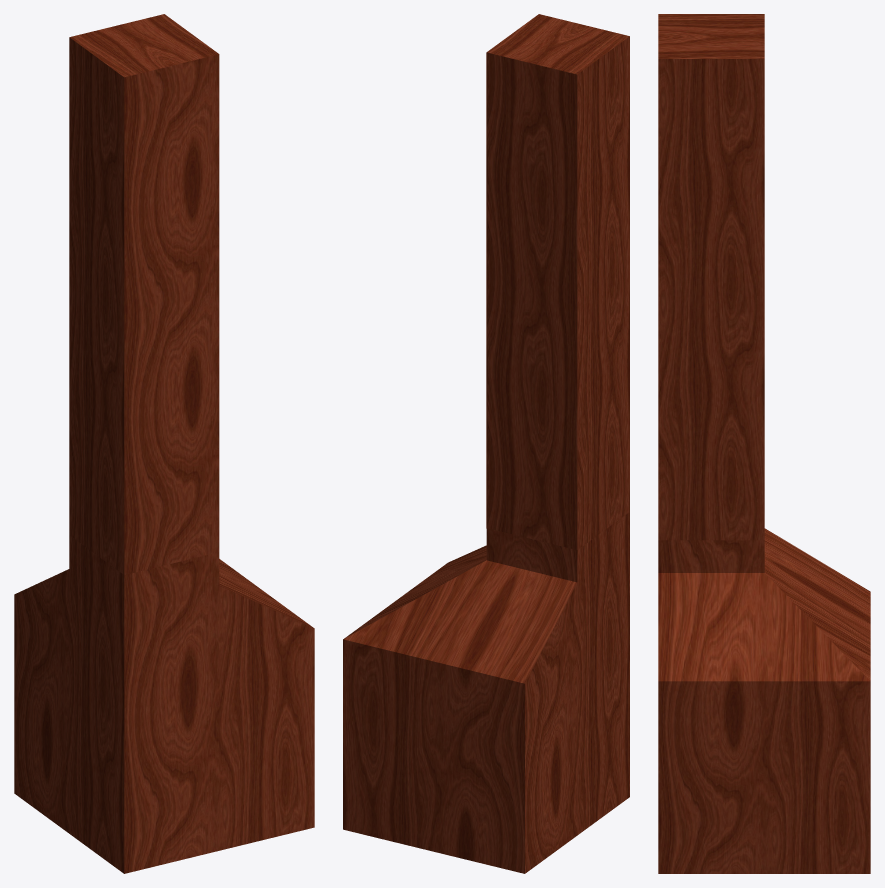
File: PillarV2.fbx
3 renders of one model, left to right at view 1: azimuth 30°, elevation 25°; view 2: azimuth 150°, elevation 25°; view 3: azimuth 270°, elevation 25°, orthographic. The views are drawn at different scales.
Parts seen in each view (by area): view 1: pCube1; view 2: pCube1; view 3: pCube1.
Part boxes in pixels (x1=…): pCube1: x1=14, y1=14, x2=314, y2=873; pCube1: x1=343, y1=14, x2=629, y2=873; pCube1: x1=658, y1=14, x2=870, y2=873.
Bounding box in the file's own units: 1 × 4 × 1.
1 material, 1 textured.
